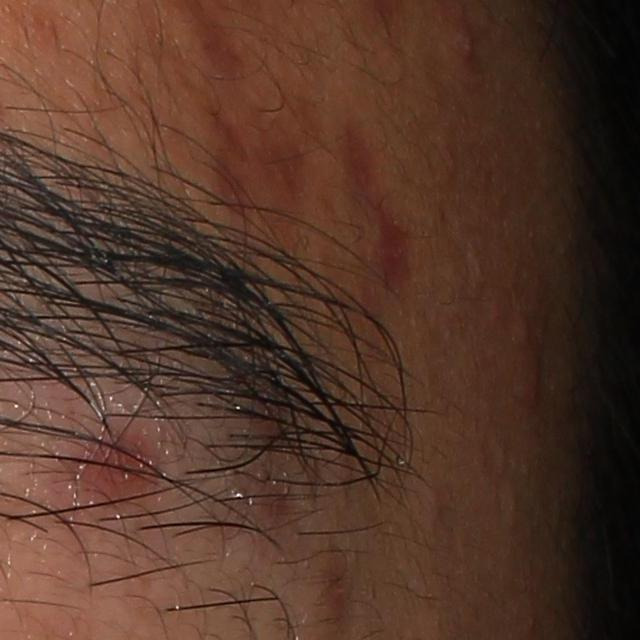atrophic_scar: (338, 113, 417, 293), (206, 102, 302, 210)
papule: (448, 6, 488, 76)
